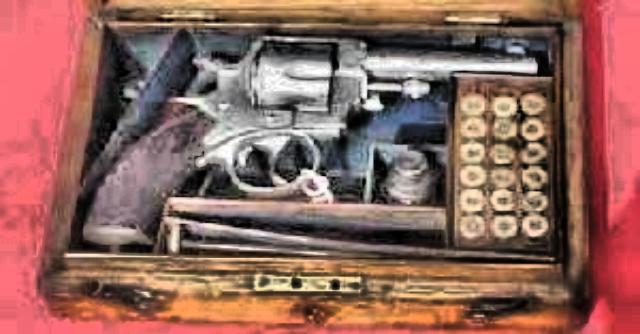pistol: (74, 29, 542, 245)
